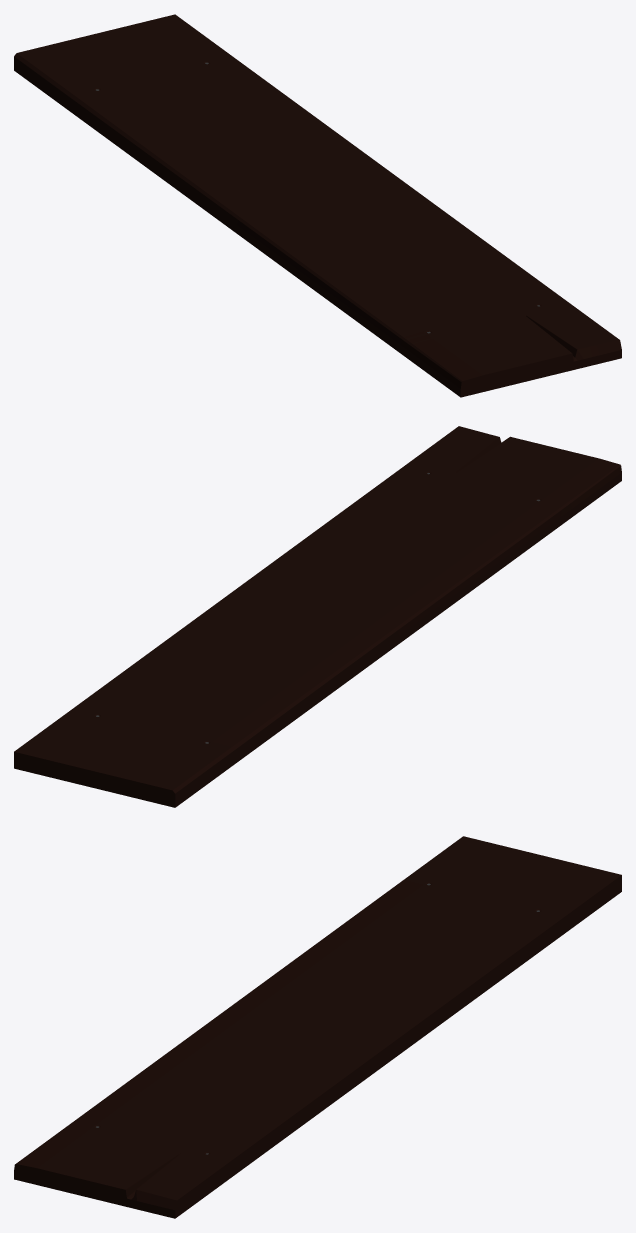
The model's file is Plank_01.fbx.
3 renders of one model, top to bottom at view 1: azimuth 30°, elevation 25°; view 2: azimuth 150°, elevation 25°; view 3: azimuth 330°, elevation 25°, orthographic.
Visible parts, largest first — view 1: Plank_001; view 2: Plank_001; view 3: Plank_001.
Boxes of the visible parts, x1,y1,x2,y2 form: Plank_001: (14,14,621,397); Plank_001: (14,426,621,807); Plank_001: (14,836,621,1218).
Size of the model in its own units: 9.84 by 0.9843 by 47.24.
